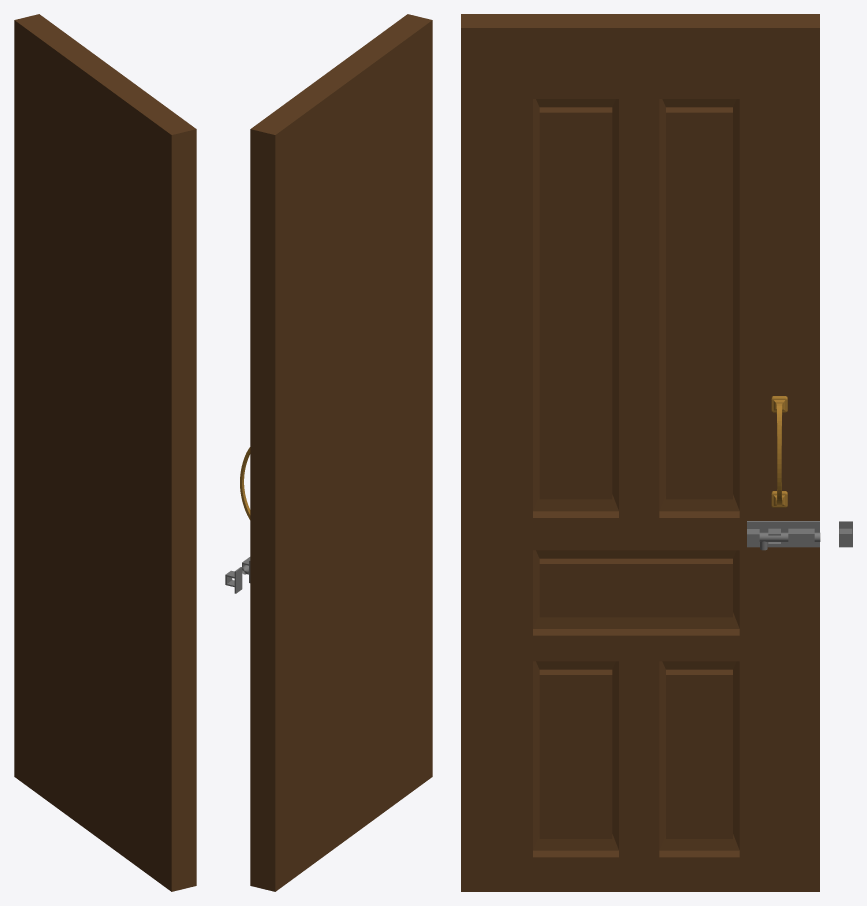
Rendered from Door 1.fbx.
3 renders of one model, left to right at view 1: azimuth 30°, elevation 25°; view 2: azimuth 150°, elevation 25°; view 3: azimuth 270°, elevation 25°, orthographic. The views are drawn at different scales.
Parts seen in each view (by area): view 1: Cube.005; view 2: Cube.005; view 3: Cube.005, Cube.006, holder.003.
Part boxes in pixels (x1,y1,x2,y2): Cube.005: (14, 14, 196, 891); Cube.005: (250, 14, 432, 891); Cube.005: (461, 14, 819, 891); Cube.006: (747, 521, 819, 547); holder.003: (771, 396, 787, 507).
Size of the model in its own units: 30.29 by 419 by 172.
